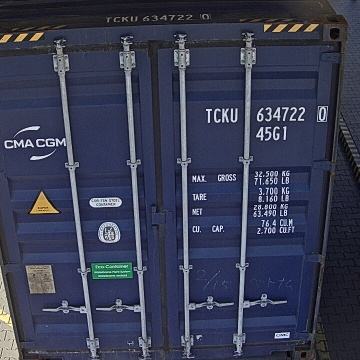serial_id: (205, 105, 327, 122)
